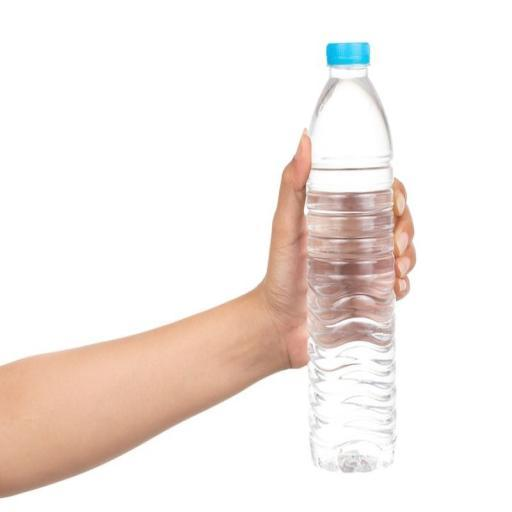bottle: (290, 32, 412, 480)
